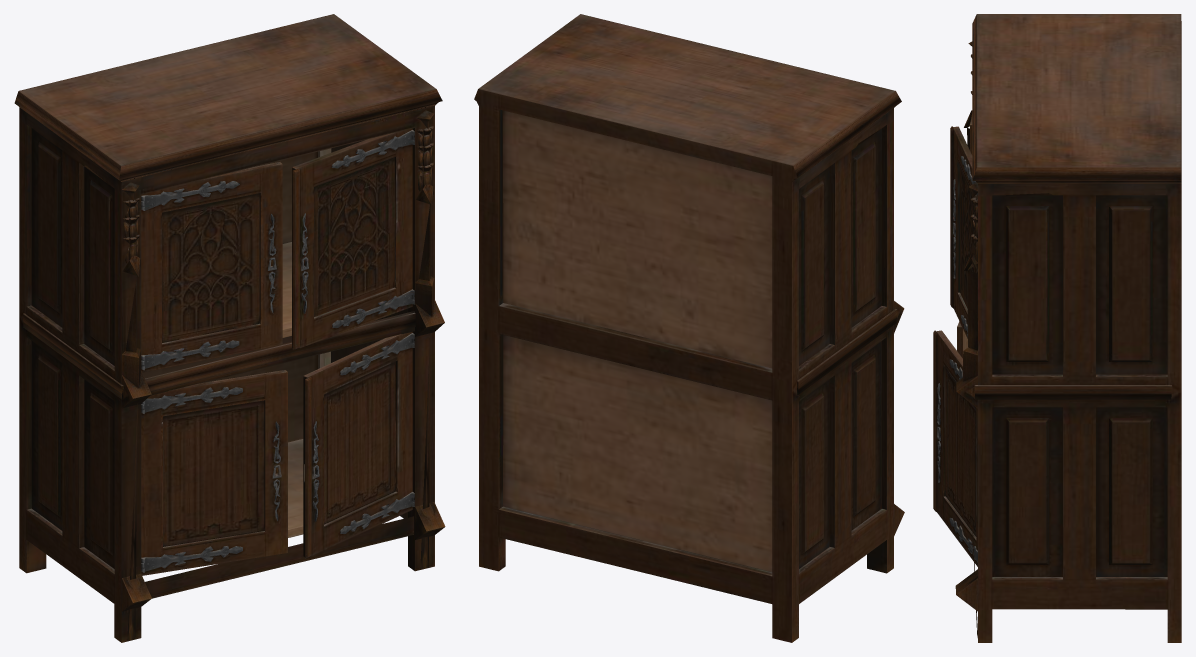
File: GothicCabinet_01.glb
3 views of the same model, side by side, from view 1: azimuth 30°, elevation 25°; view 2: azimuth 150°, elevation 25°; view 3: azimuth 270°, elevation 25° (orthographic).
Parts seen in each view (by area): view 1: GothicCabinet_01_cabinet, GothicCabinet_01_door3, GothicCabinet_01_door1, GothicCabinet_01_door2, GothicCabinet_01_door4; view 2: GothicCabinet_01_cabinet; view 3: GothicCabinet_01_cabinet, GothicCabinet_01_door4, GothicCabinet_01_door2.
Boxes of the visible parts, <box> form: GothicCabinet_01_cabinet: <box>14,14,445,642</box>; GothicCabinet_01_door3: <box>141,370,287,575</box>; GothicCabinet_01_door1: <box>141,162,282,372</box>; GothicCabinet_01_door2: <box>292,128,414,350</box>; GothicCabinet_01_door4: <box>303,332,414,558</box>; GothicCabinet_01_cabinet: <box>474,14,904,642</box>; GothicCabinet_01_cabinet: <box>955,14,1181,642</box>; GothicCabinet_01_door4: <box>933,330,977,566</box>; GothicCabinet_01_door2: <box>950,126,977,338</box>.
Bounding box in the file's own units: 1.67 × 2.36 × 1.12.
1 material, 1 textured.
